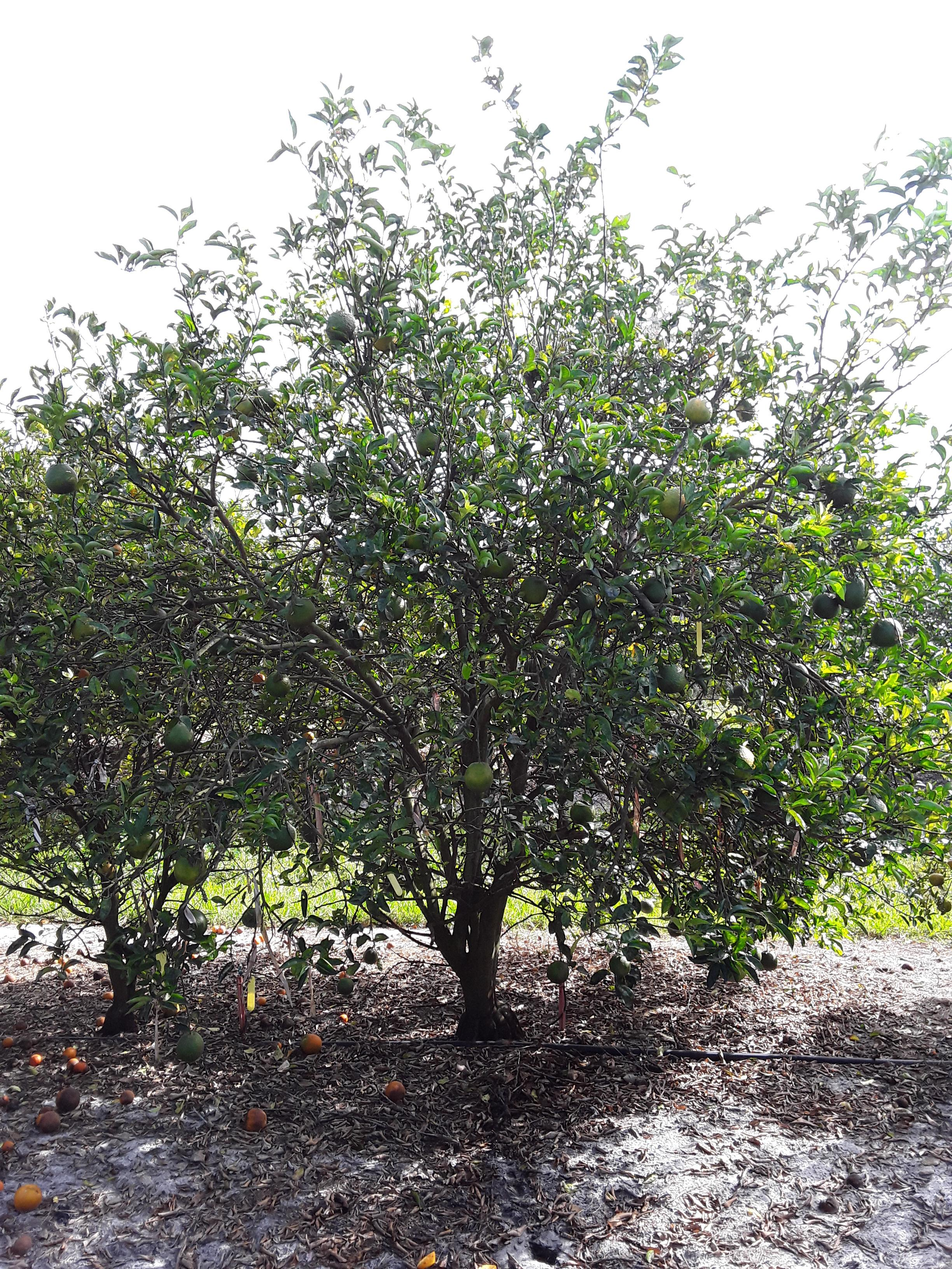fruit_on_ground: (460, 754, 504, 798), (284, 594, 325, 638), (170, 1026, 210, 1066), (173, 846, 209, 890), (173, 908, 213, 946), (369, 324, 406, 365), (721, 738, 757, 780), (122, 823, 159, 863), (42, 458, 80, 495), (834, 576, 871, 614), (161, 718, 198, 756), (66, 609, 103, 646), (320, 313, 356, 351), (824, 477, 859, 516), (657, 482, 690, 523), (654, 659, 690, 696), (106, 662, 144, 697), (803, 591, 838, 628), (866, 617, 903, 652), (679, 392, 716, 426), (224, 386, 259, 421), (376, 590, 410, 626), (261, 820, 298, 853), (516, 573, 551, 607), (789, 461, 821, 498), (728, 393, 759, 431), (642, 575, 675, 610), (327, 495, 359, 529), (232, 457, 267, 488), (561, 799, 599, 827), (483, 547, 515, 580), (413, 424, 444, 456), (569, 584, 600, 616), (300, 456, 329, 490), (594, 878, 623, 911), (615, 614, 642, 647), (261, 672, 294, 699), (541, 957, 574, 983), (756, 948, 784, 978), (256, 387, 280, 420), (606, 952, 636, 978), (340, 628, 373, 650), (240, 903, 267, 929), (334, 977, 361, 999), (360, 946, 384, 967), (329, 608, 350, 631), (933, 897, 952, 919), (928, 869, 948, 889), (637, 895, 656, 916)
fruit_on_tree: (9, 1179, 47, 1215), (234, 1103, 275, 1135), (2, 1225, 40, 1255), (35, 1106, 67, 1138), (292, 1028, 325, 1059), (52, 1084, 84, 1114), (408, 1248, 447, 1269), (381, 1076, 405, 1103), (814, 1195, 842, 1216), (843, 1171, 866, 1190), (116, 1087, 135, 1108), (60, 1042, 78, 1061), (71, 1062, 93, 1077), (332, 1010, 352, 1025), (62, 1056, 83, 1070), (272, 984, 290, 1000), (58, 979, 76, 994), (91, 968, 106, 985), (31, 1051, 43, 1071), (899, 960, 915, 974), (101, 974, 114, 991), (101, 987, 114, 1004), (93, 1014, 106, 1028), (256, 995, 268, 1009)
